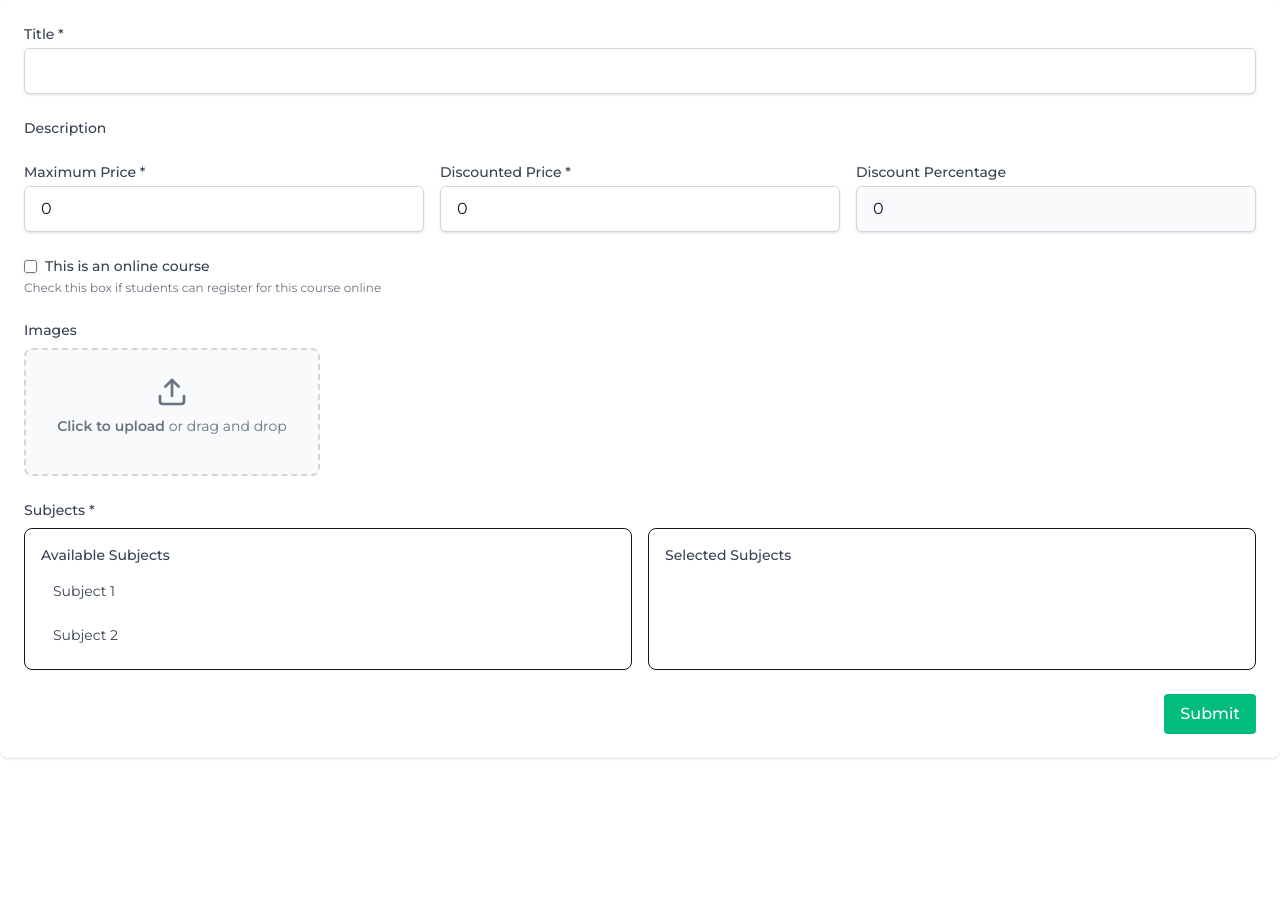
Test case: CourseForm › calculates discount percentage correctly
The image size is (1280, 900).
In the number field labelled "Maximum Price *": [224, 209] box left=24, top=186, right=424, bottom=232, type "1000"
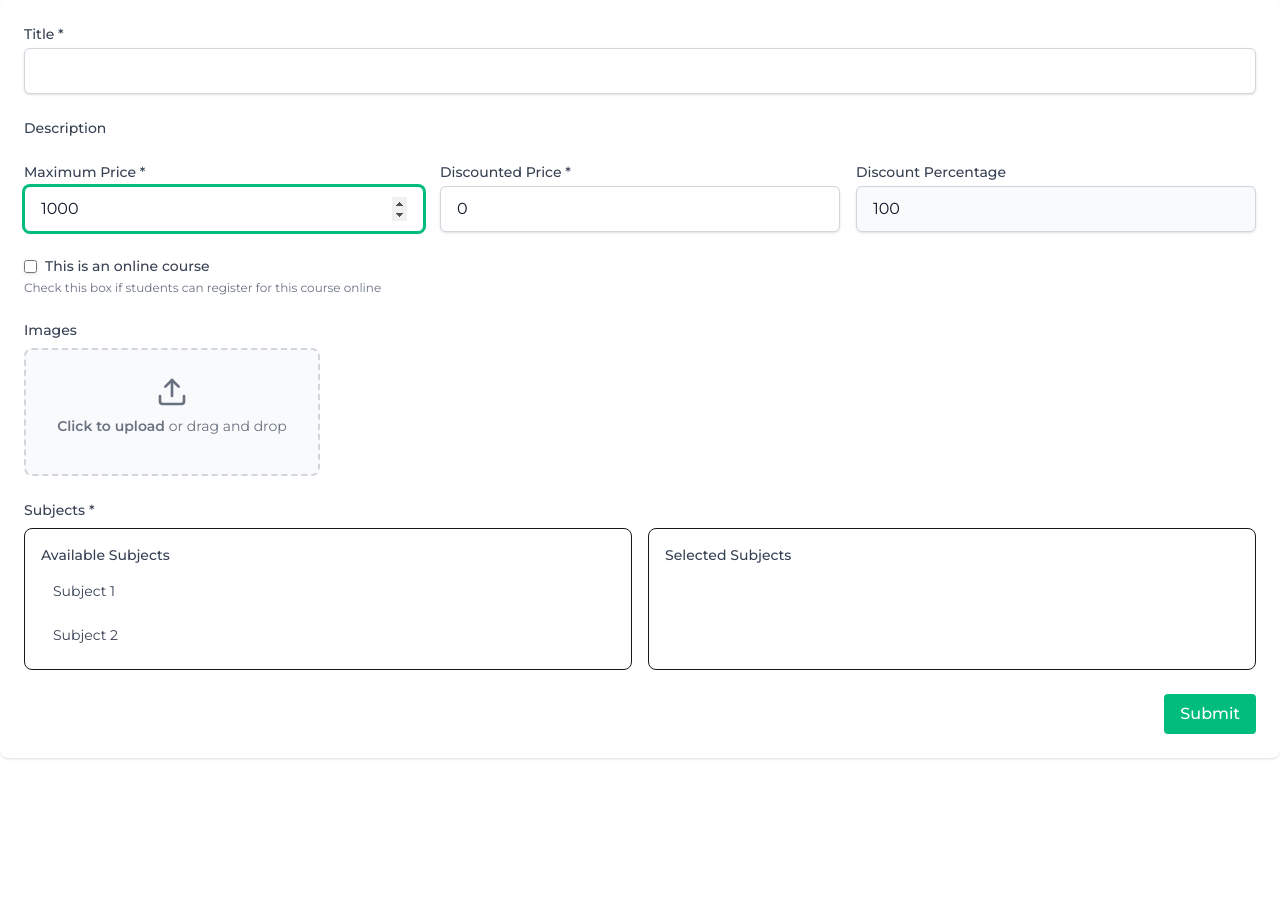
In the number field labelled "Discounted Price *": [640, 209] box left=440, top=186, right=840, bottom=232, type "800"
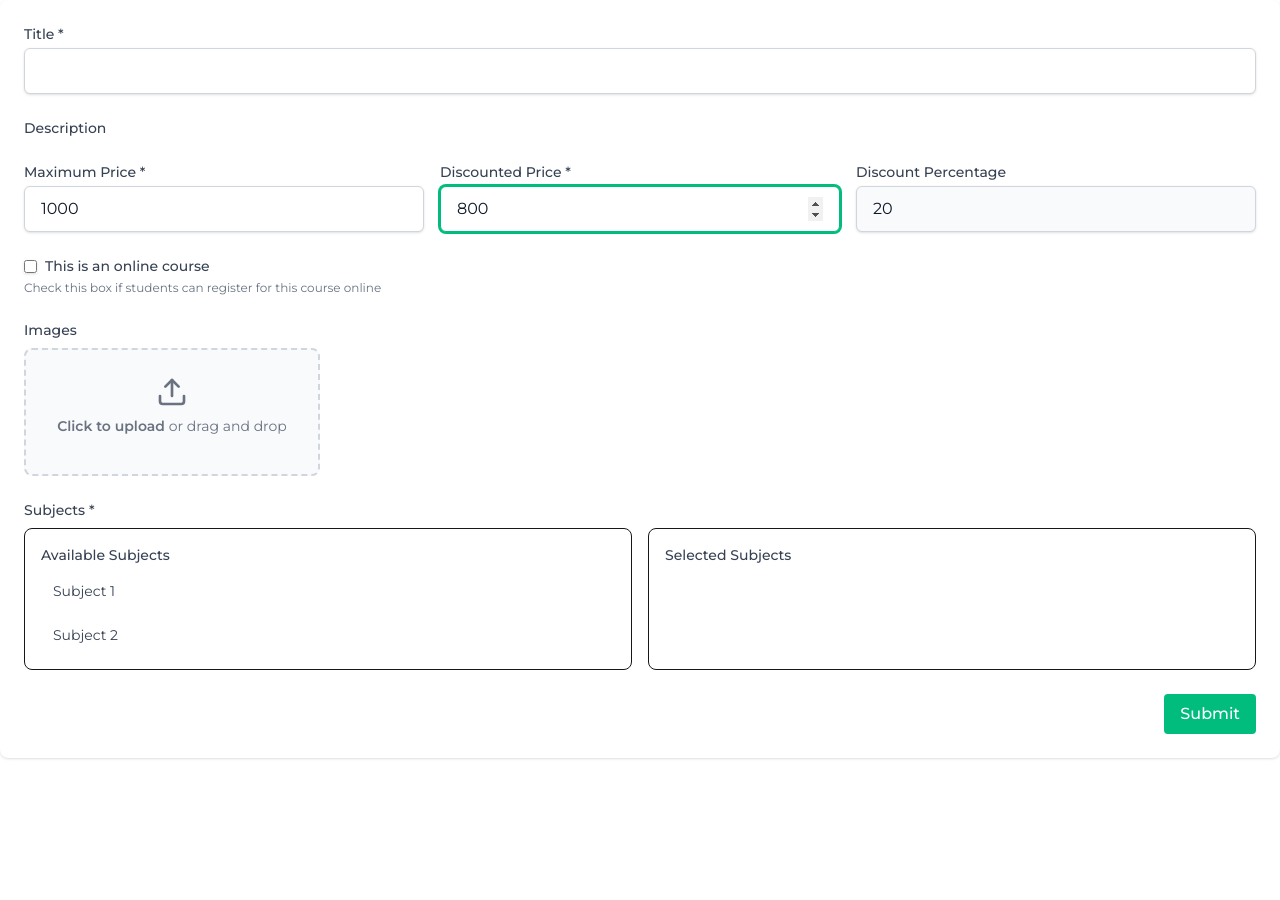
Check: the number field labelled "Discount Percentage" holds "20", box left=856, top=186, right=1256, bottom=232
